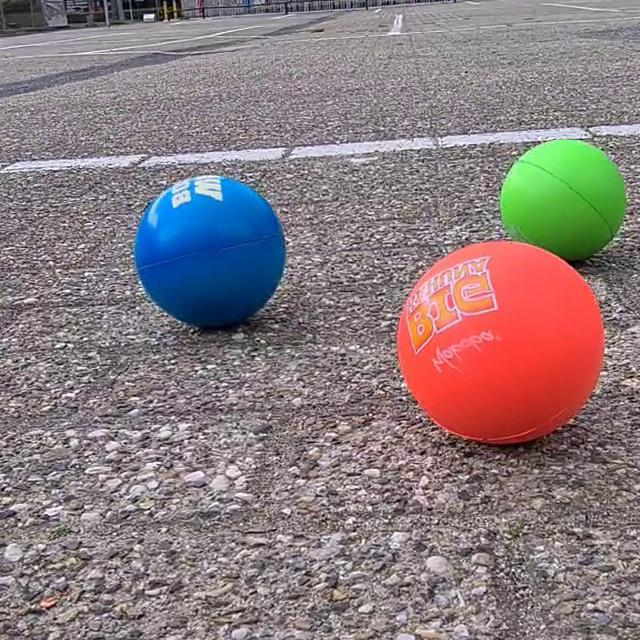ball: (130, 172, 288, 332), (499, 136, 627, 262)
